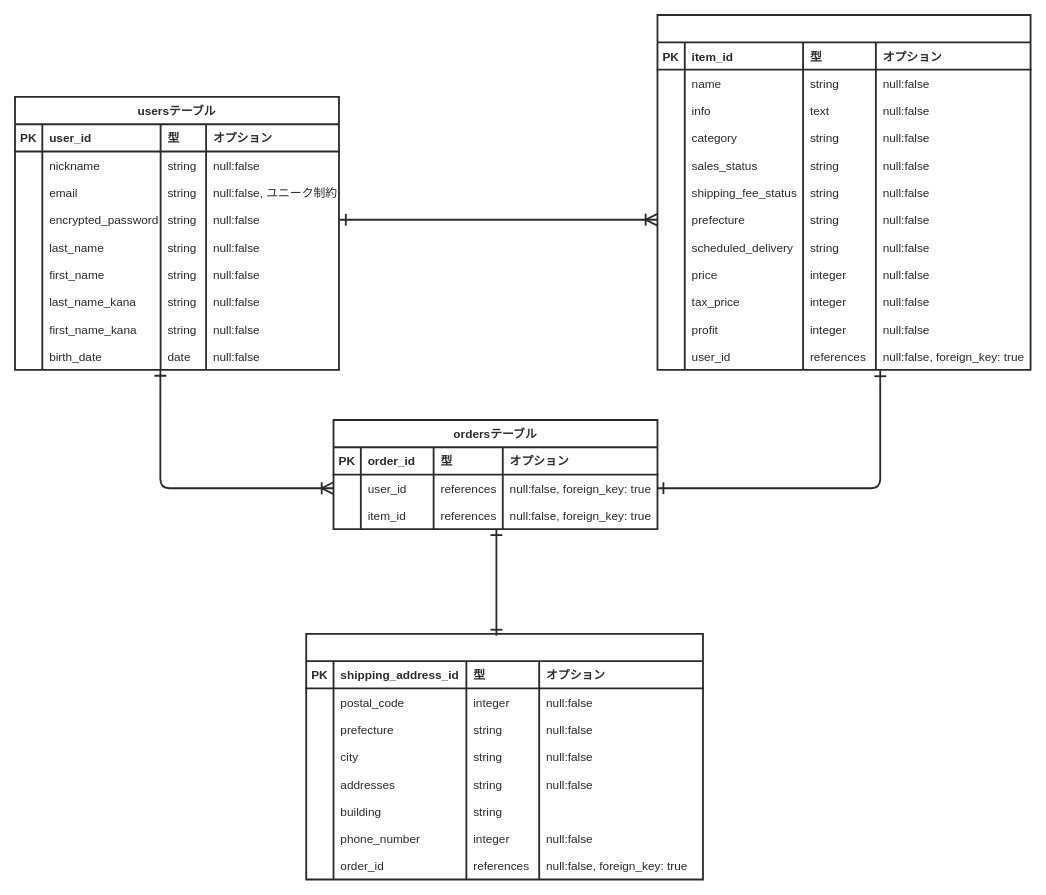
This 1046x895 diagram has some shape labels left out. The box of each missing label's shape, as (x1, y1, x2, y2) in pixels:
itemsテーブル: (656, 14, 1031, 370)
shipping_addressesテーブル: (305, 632, 703, 880)
